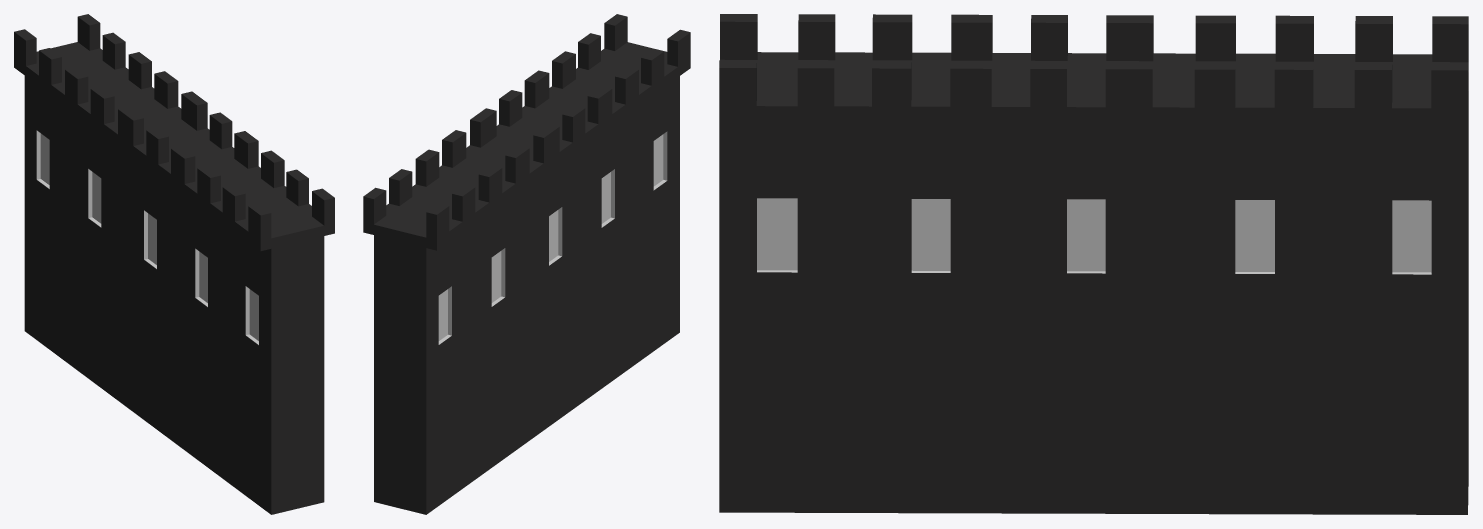
The model's file is castle wall_piece.fbx.
The picture shows the model from 3 angles, left to right: view 1: azimuth 30°, elevation 25°; view 2: azimuth 150°, elevation 25°; view 3: azimuth 270°, elevation 25°; orthographic projection. The views are drawn at different scales.
Visible parts, largest first — view 1: castle_wall; view 2: castle_wall; view 3: castle_wall.
Part boxes in pixels (box(x1,y1,x2,y2)): castle_wall: box(14, 14, 334, 514); castle_wall: box(363, 14, 690, 514); castle_wall: box(719, 14, 1468, 514).
Bounding box in the file's own units: 494 × 1848 × 2776.
1 material, 1 textured.
